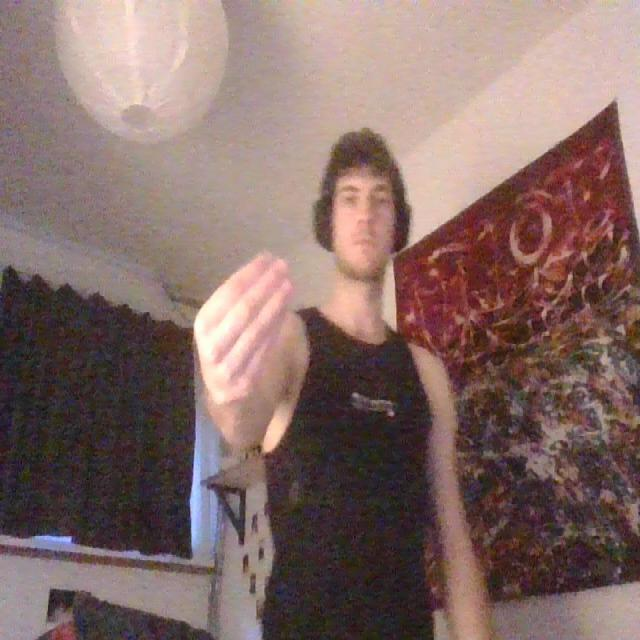forward: (188, 244, 296, 408)
